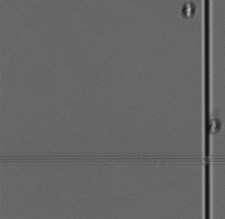Dead Cell: (206, 116, 221, 137)
Living Cell: (181, 3, 196, 18)
